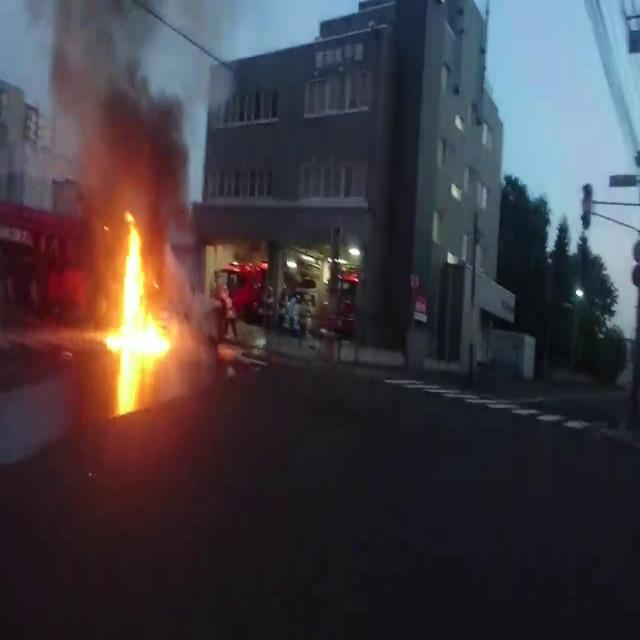fire: (94, 205, 180, 419)
